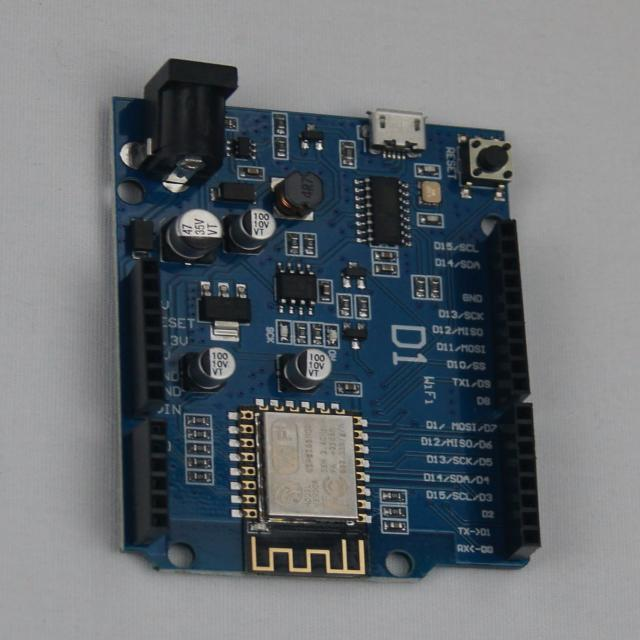Arduino Uno WiFi Shield: (113, 61, 540, 579)
